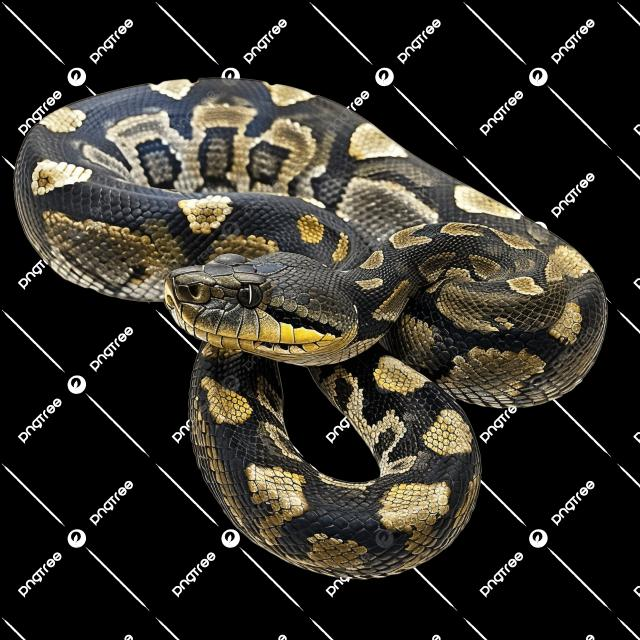Non-Venomous: (163, 238, 375, 364)
